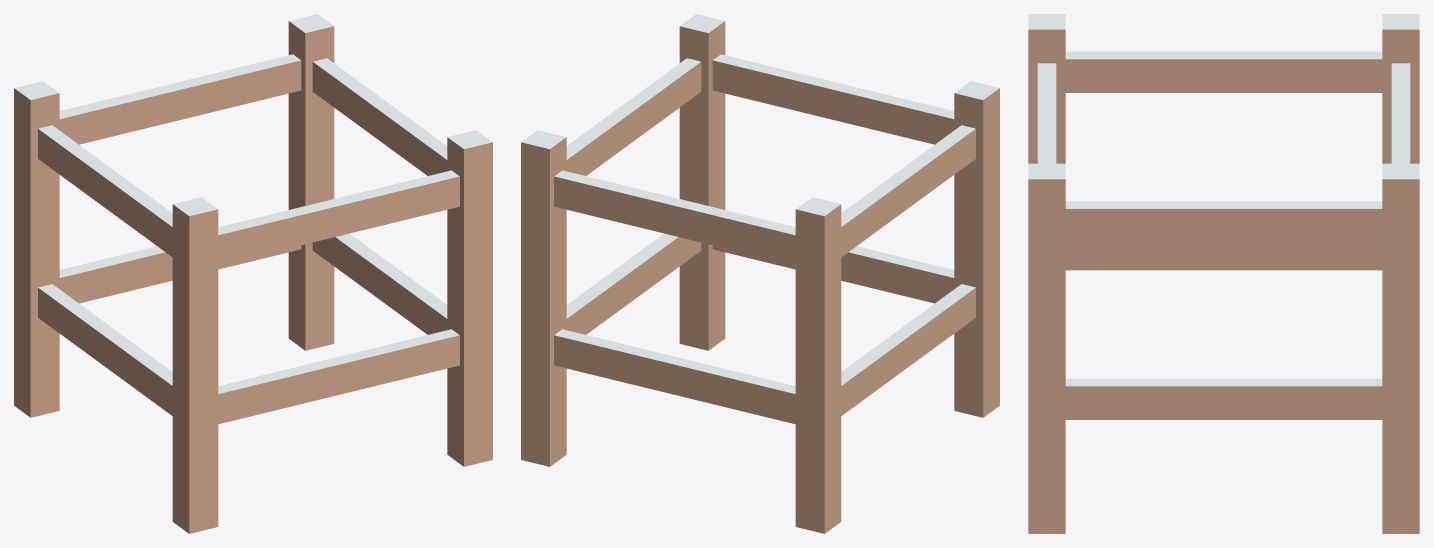
Rendered from snow_woodStructure_high.glb.
3 renders of one model, left to right at view 1: azimuth 30°, elevation 25°; view 2: azimuth 150°, elevation 25°; view 3: azimuth 270°, elevation 25°, orthographic. The views are drawn at different scales.
Visible parts, largest first — view 1: snow_woodStructure_high; view 2: snow_woodStructure_high; view 3: snow_woodStructure_high.
Boxes of the visible parts, box(x1,y1,x2,y2) form: snow_woodStructure_high: box(14, 14, 492, 533); snow_woodStructure_high: box(521, 14, 999, 533); snow_woodStructure_high: box(1028, 14, 1419, 533).
Size of the model in its own units: 1 by 1 by 1.
